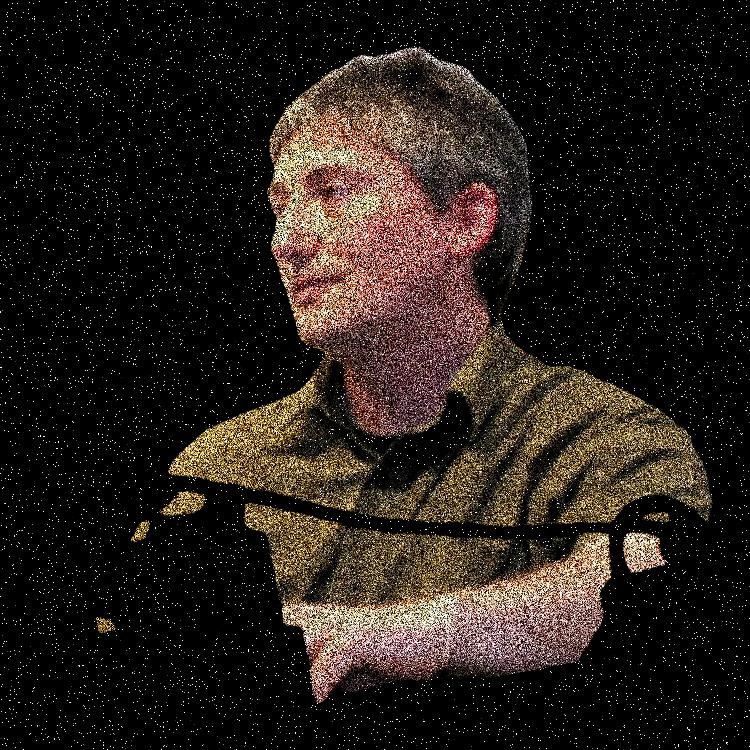Pessoa: (328, 0, 584, 749)
